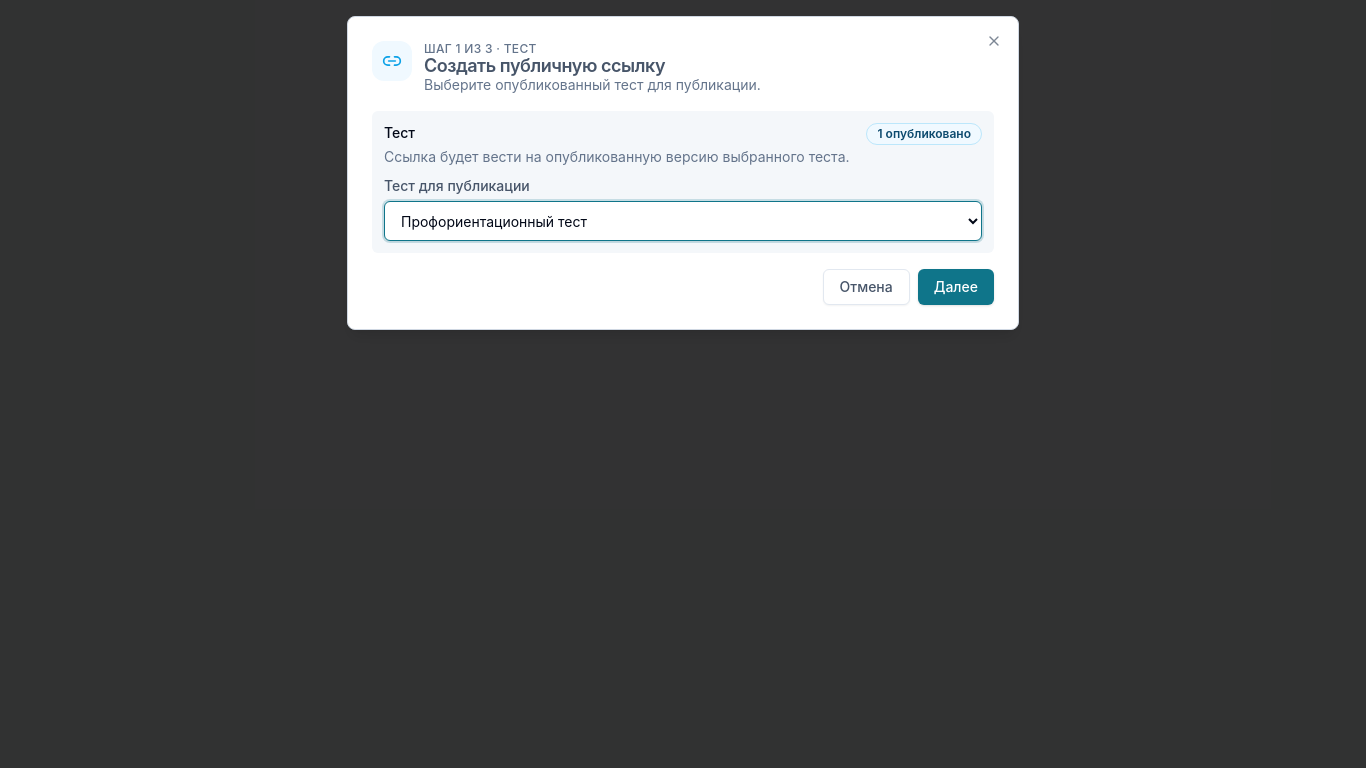
Scenario: PublicLinkCreateDialog › keeps a failed creation visible on the last step of the wizard
The width and height of the screenshot is (1366, 768).
What coordinates should you click on to do the following:
click the button "Далее"
I would click on:
 (956, 287)
Its box is [918,269,994,305].
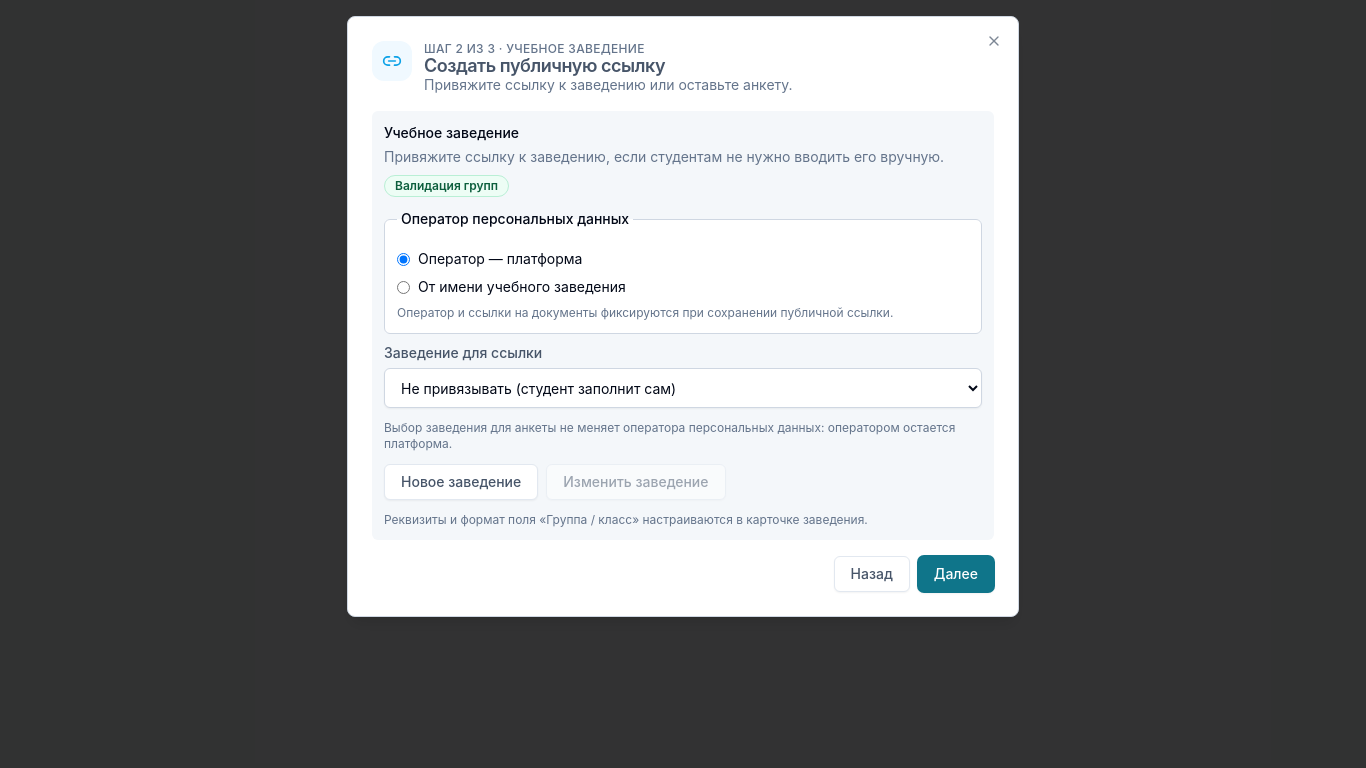
What coordinates should you click on to do the following:
click the button "Далее"
I would click on:
 (956, 574)
Its box is [918,556,994,592].
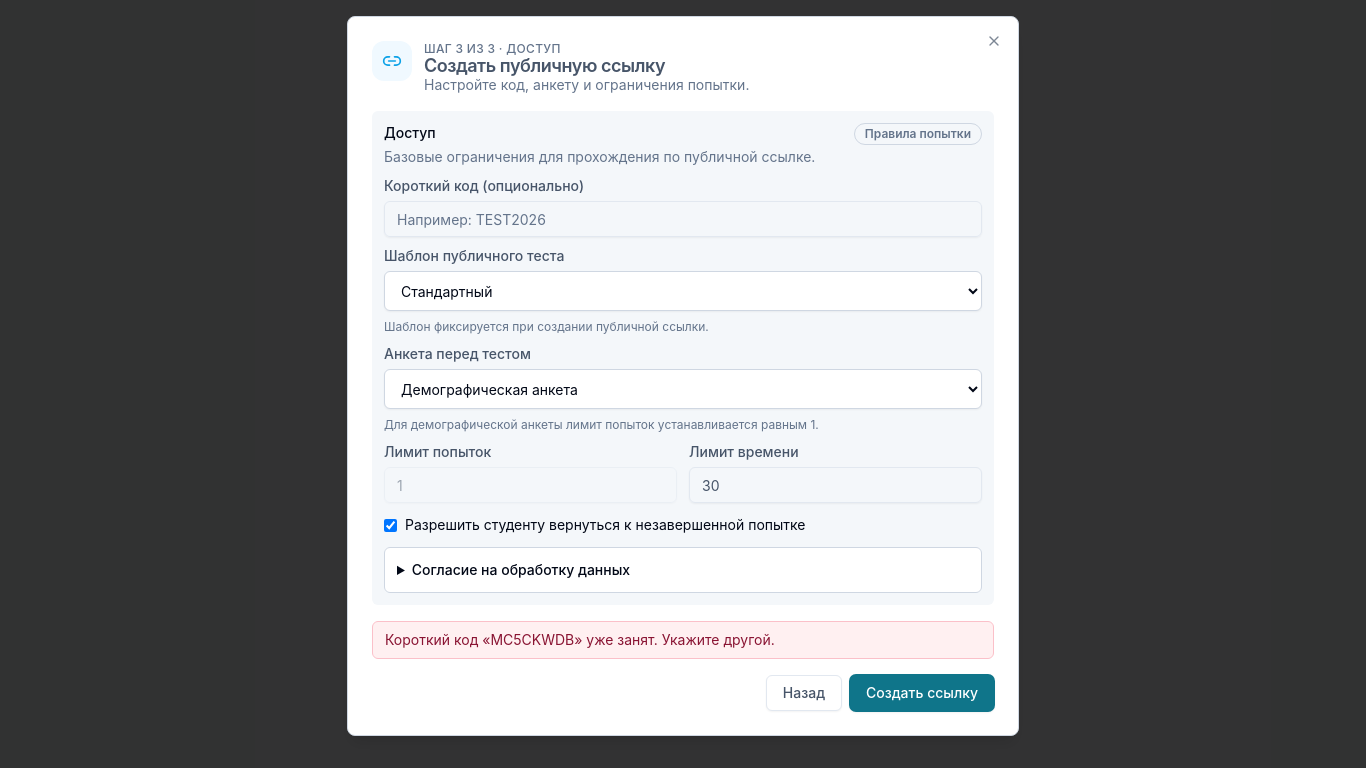
expect the message reads "Короткий код «MC5CKWDB» уже занят. Укажите другой.": met, box [385,631,775,648]
